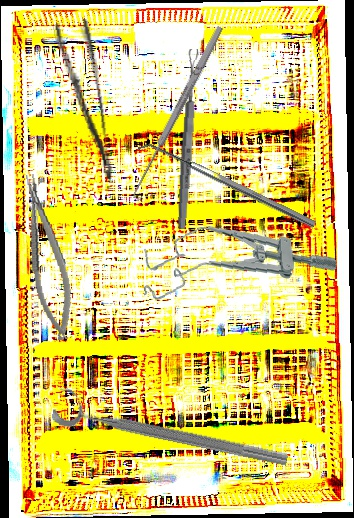Dressing Forceps: (52, 18, 116, 184)
Fixation Ring: (50, 384, 293, 474)
Hook Surgical: (127, 24, 232, 203)
Needle Holder: (17, 171, 79, 343)
Spatula Surgical: (136, 137, 317, 235)
Speculum: (138, 215, 338, 302)
Surgical Spoon: (175, 48, 201, 230)
